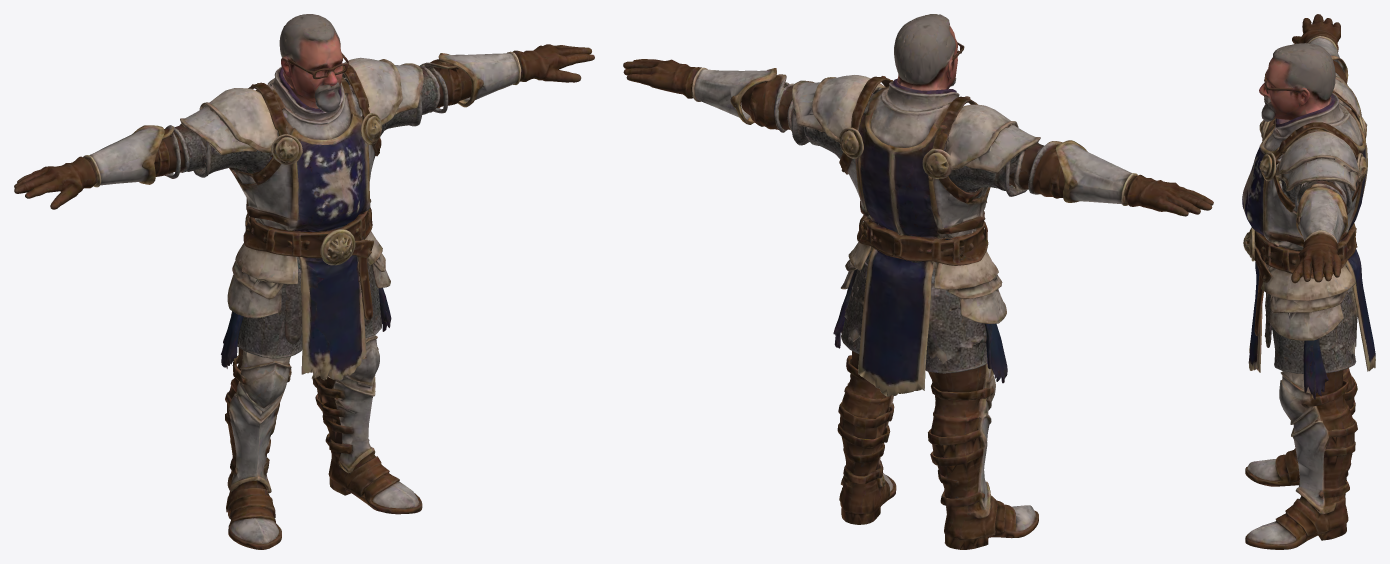
The model's file is dadKnightFinal.glb.
3 renders of one model, left to right at view 1: azimuth 30°, elevation 25°; view 2: azimuth 150°, elevation 25°; view 3: azimuth 270°, elevation 25°, orthographic. The views are drawn at different scales.
Visible parts, largest first — view 1: world; view 2: world; view 3: world.
Boxes of the visible parts, x1,y1,x2,y2 form: world: (14,14,594,549); world: (623,14,1213,549); world: (1242,14,1375,549).
Size of the model in its own units: 0.9949 by 0.8085 by 0.2119.
1 material, 1 textured.
